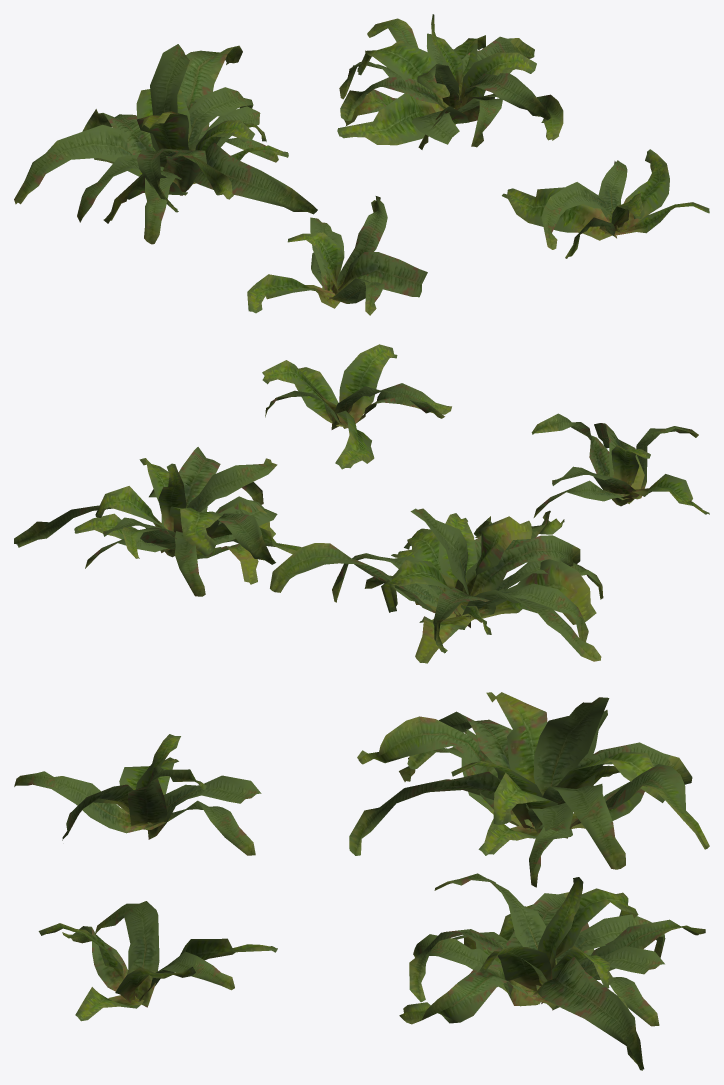
The model's file is fern-01.glb.
3 renders of one model, top to bottom at view 1: azimuth 30°, elevation 25°; view 2: azimuth 150°, elevation 25°; view 3: azimuth 270°, elevation 25°, orthographic. The views are drawn at different scales.
Parts seen in each view (by area): view 1: fern_02_b; view 2: fern_02_b; view 3: fern_02_b.
Boxes of the visible parts, bbox=[...] form: fern_02_b: bbox=[14, 14, 709, 315]; fern_02_b: bbox=[14, 344, 709, 663]; fern_02_b: bbox=[14, 692, 709, 1070].
Bounding box in the file's own units: 1.97 × 0.4277 × 1.72.
Materials: 1 (1 with a texture image).
